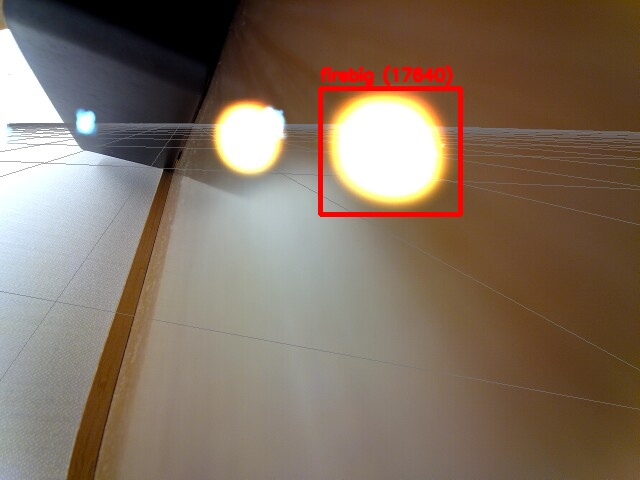firebig: (320, 88, 460, 214)
